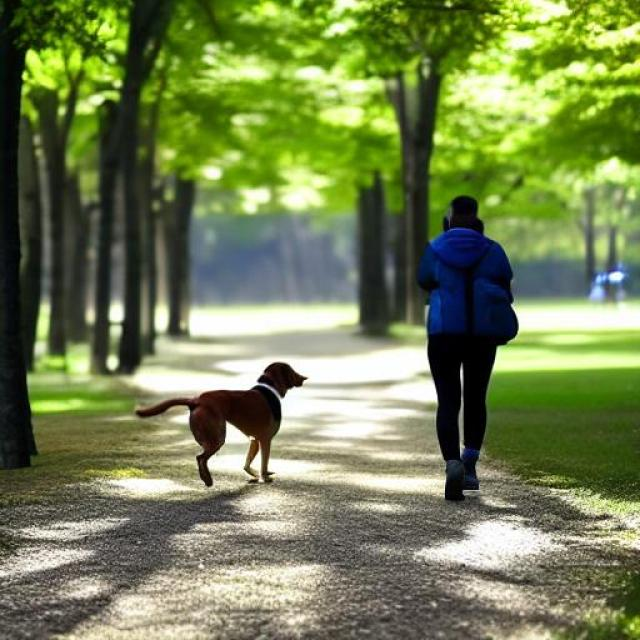Unleashed_Dog: (132, 346, 498, 502)
